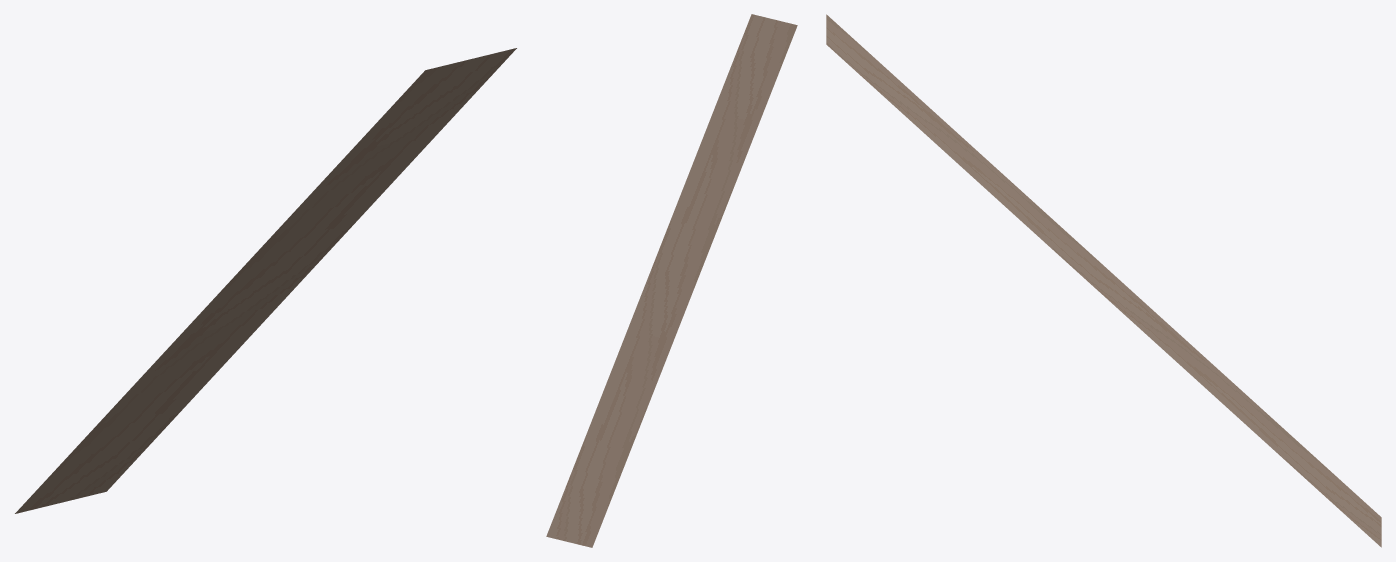
Rendered from kd_stage_135b75_4_17_bounded_portal_piece_20.glb.
3 renders of one model, left to right at view 1: azimuth 30°, elevation 25°; view 2: azimuth 150°, elevation 25°; view 3: azimuth 270°, elevation 25°, orthographic. The views are drawn at different scales.
Parts seen in each view (by area): view 1: kd_stage_135b75_4_17_bounded_portal_piece_20; view 2: kd_stage_135b75_4_17_bounded_portal_piece_20; view 3: kd_stage_135b75_4_17_bounded_portal_piece_20.
Part boxes in pixels (left/top/right/bottom): kd_stage_135b75_4_17_bounded_portal_piece_20: left=15, top=48, right=516, bottom=513; kd_stage_135b75_4_17_bounded_portal_piece_20: left=546, top=14, right=797, bottom=547; kd_stage_135b75_4_17_bounded_portal_piece_20: left=826, top=14, right=1381, bottom=547.
Size of the model in its own units: 0.029 by 0.2237 by 0.2237.
1 material, 1 textured.
